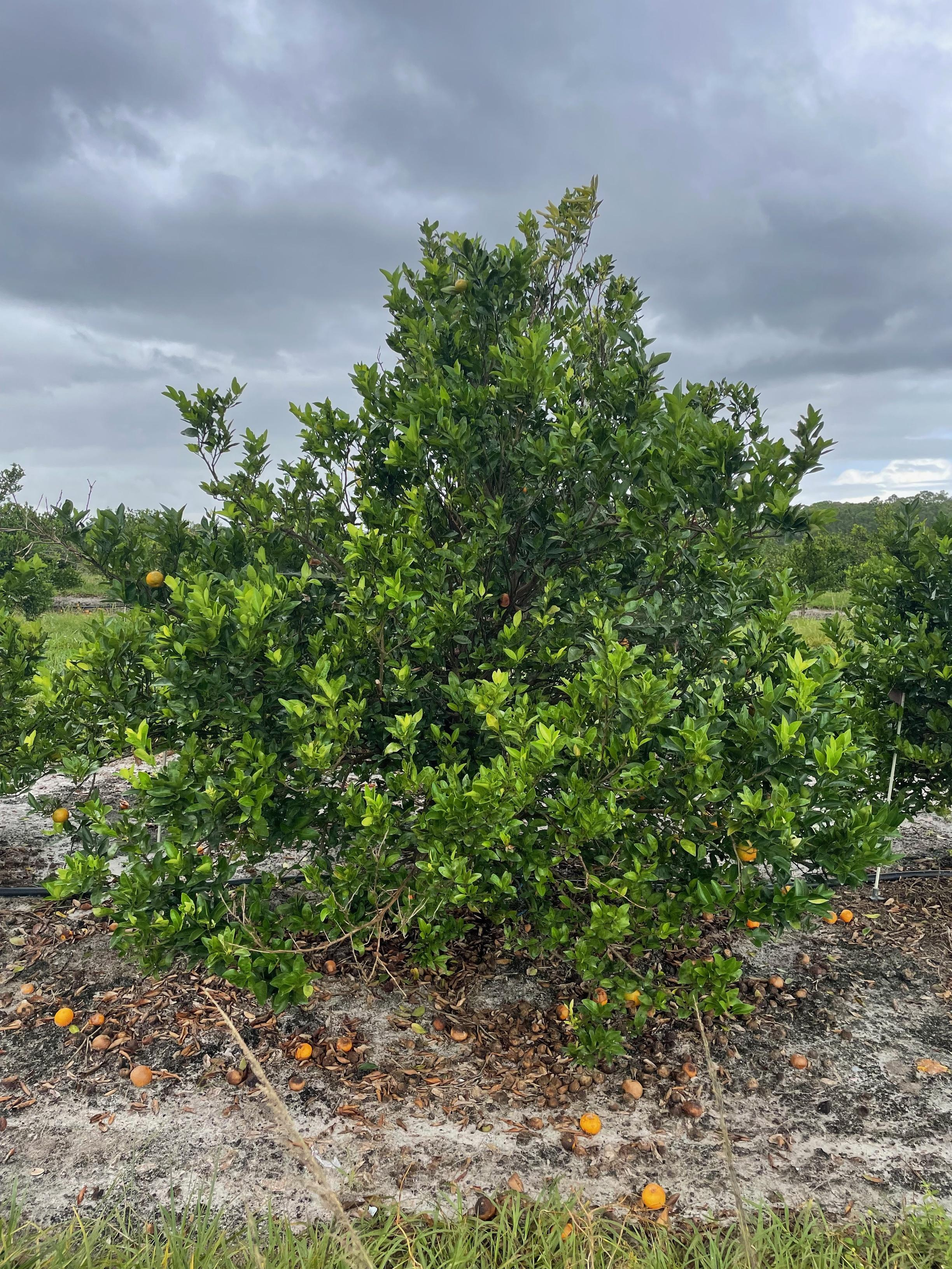fruit_on_ground: (695, 808, 725, 838), (733, 837, 761, 864), (144, 568, 167, 590), (621, 986, 644, 1007), (50, 805, 71, 825), (452, 276, 471, 294)
fruit_on_tree: (641, 1180, 667, 1210), (471, 1196, 498, 1222), (129, 1063, 155, 1089), (578, 1112, 603, 1135), (621, 1077, 644, 1100), (53, 1005, 75, 1028), (589, 986, 610, 1007), (294, 1040, 315, 1061), (683, 1099, 705, 1119), (90, 1031, 112, 1051), (286, 1073, 307, 1092), (225, 1066, 245, 1085), (789, 1051, 809, 1070), (449, 1024, 470, 1042), (86, 1011, 107, 1029), (553, 1002, 572, 1021), (334, 1034, 354, 1052), (680, 1061, 699, 1079), (527, 1113, 545, 1130), (430, 1016, 448, 1033), (322, 956, 338, 974), (744, 914, 763, 929), (821, 909, 838, 925), (839, 907, 855, 923), (18, 980, 35, 995), (768, 974, 785, 989), (656, 1064, 672, 1079), (796, 950, 811, 965), (700, 909, 716, 922), (779, 882, 793, 896), (794, 986, 808, 998)
